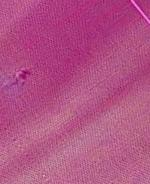knot: (9, 62, 35, 92)
